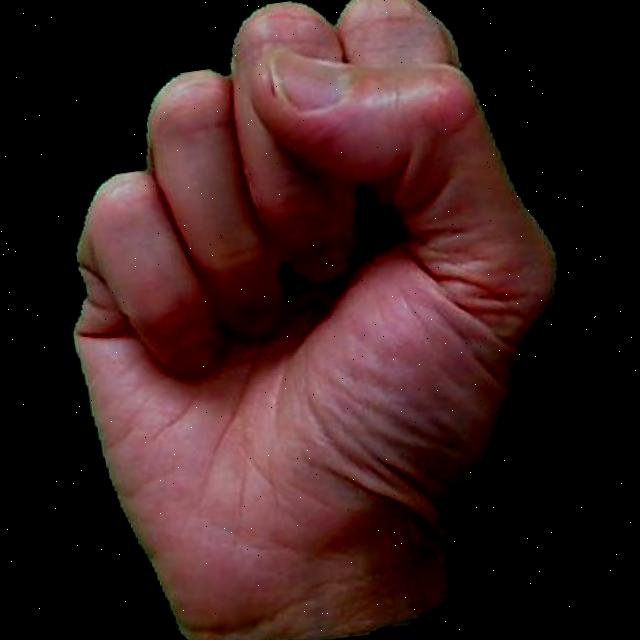s: (6, 0, 603, 640)
